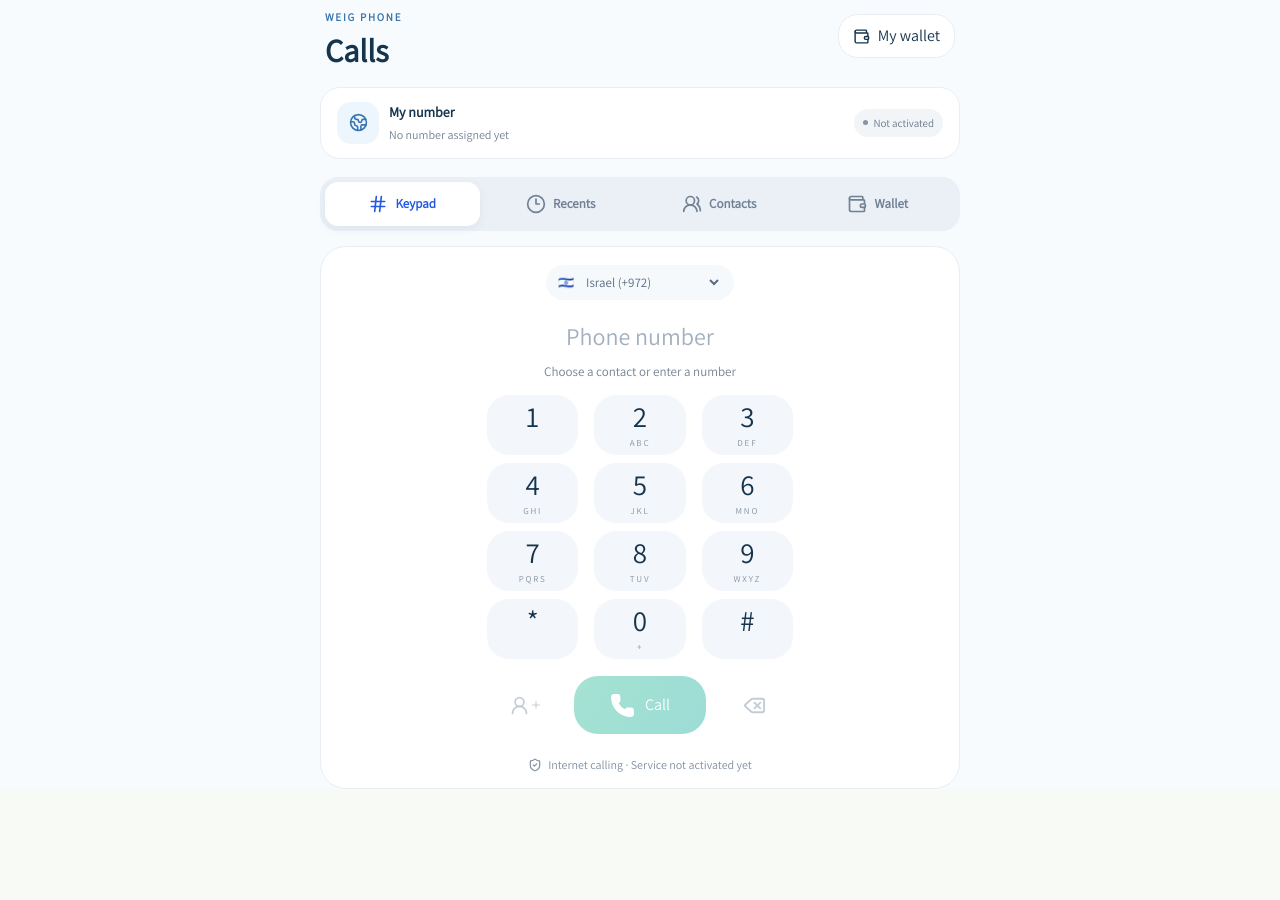
Scenario: Phone experience › persists contacts, finds them, favorites them and loads their number into the keypad
This screenshot has width=1280, height=900.
Click the tab "Contacts" at (719, 204), box [642, 182, 796, 226]
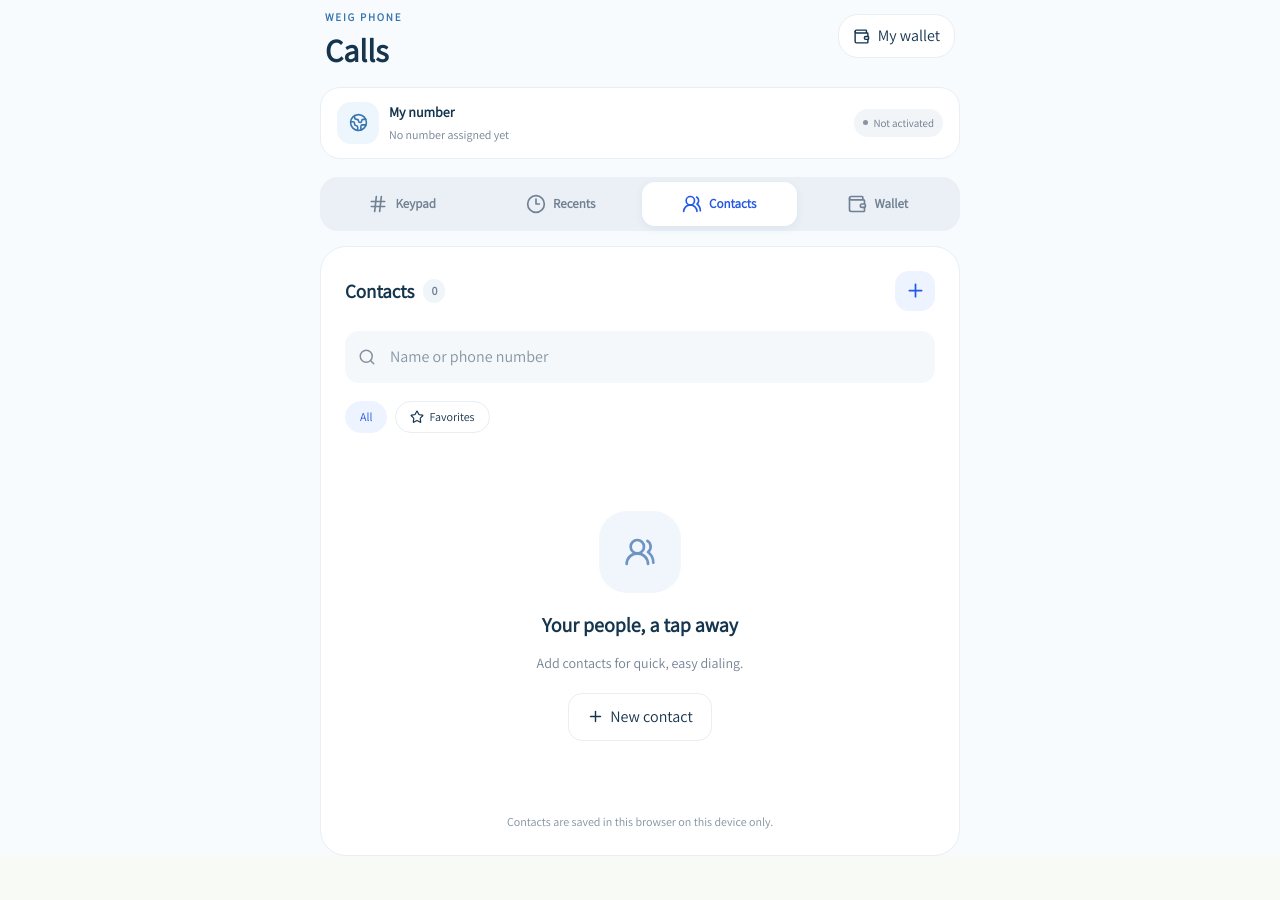
Click the button named "Add contact" at (915, 291), box [895, 271, 935, 311]
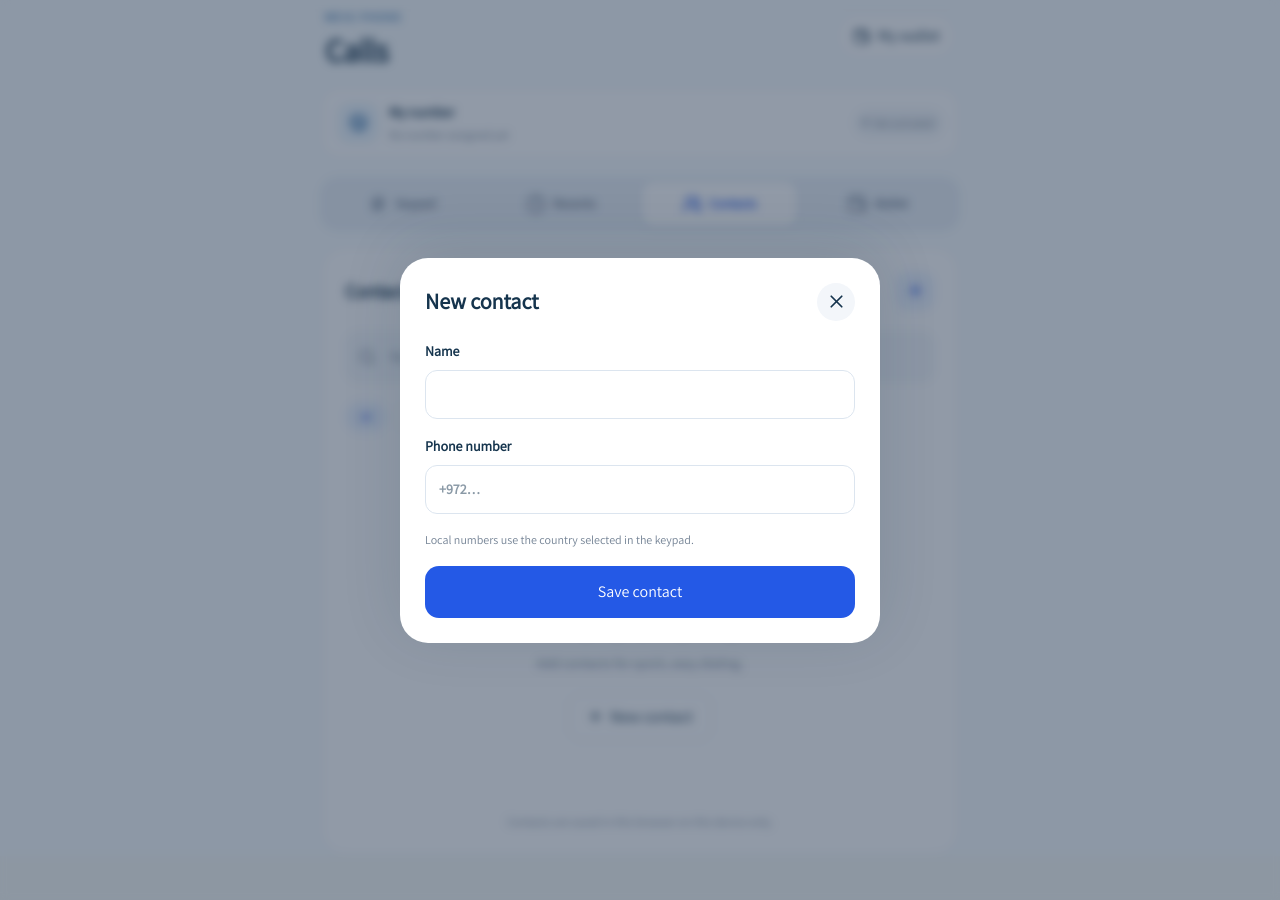
Type "Test contact" into the field labelled "Name" at (640, 394), box [425, 370, 855, 418]
Type "0501234567" into the field labelled "Phone number" at (640, 489), box [425, 464, 855, 514]
Click the button "Save contact" at (640, 592), box [425, 566, 855, 618]
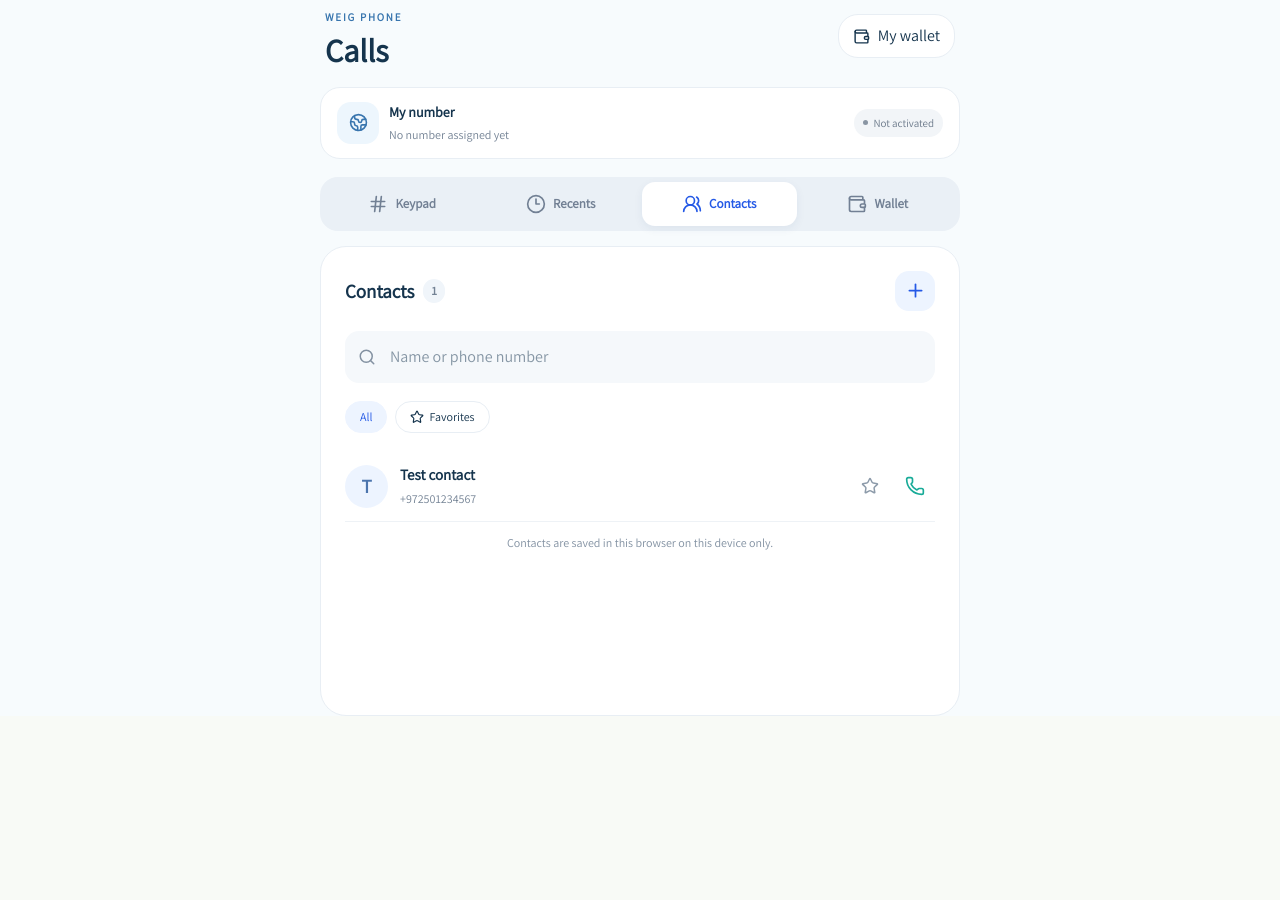
Type "test" into the field named "Search contacts" at (654, 357), box [386, 341, 922, 373]
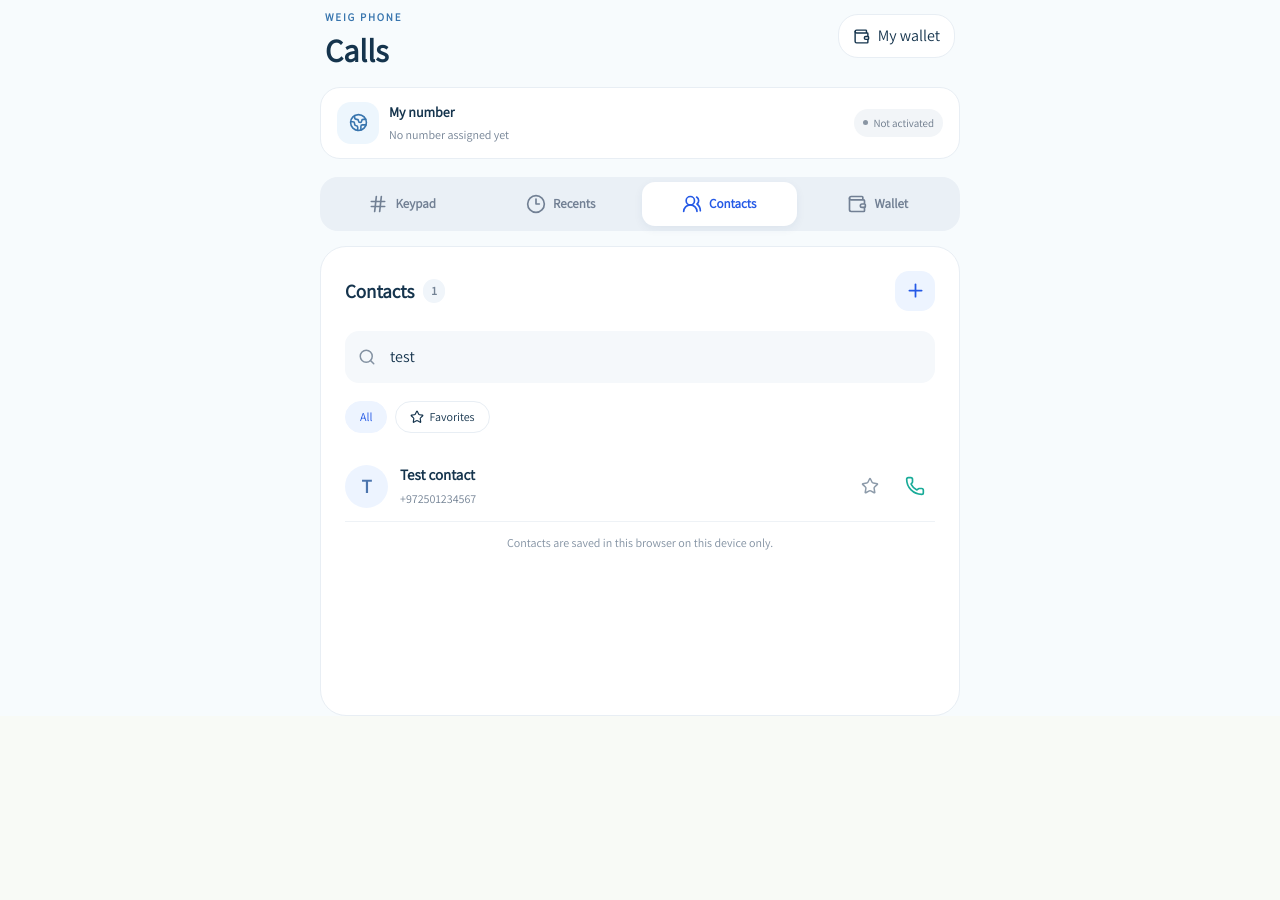
Click the button named "Favorite Test contact" at (870, 486), box [850, 464, 890, 508]
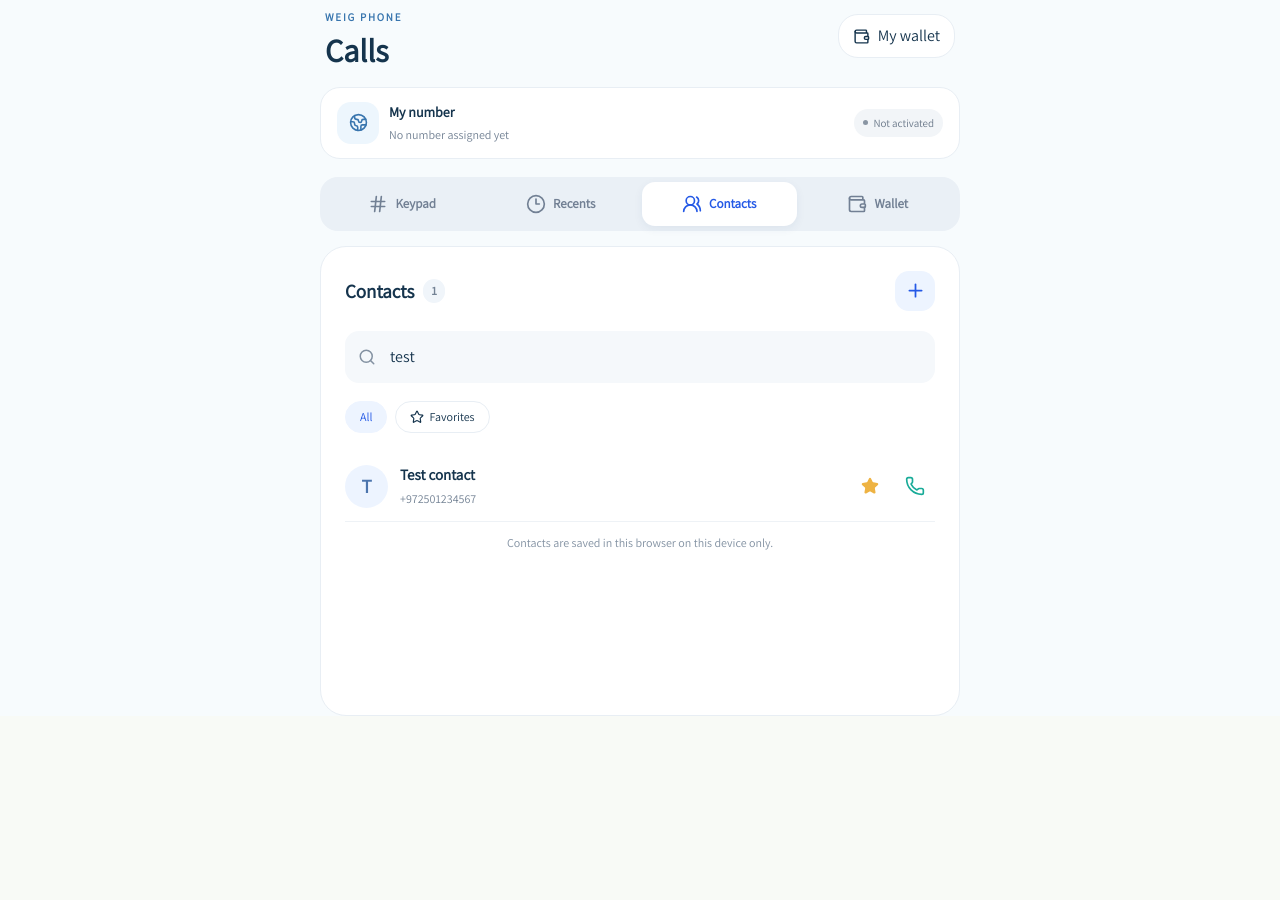
Click the button named "Dial Test contact" at (915, 486), box [895, 464, 935, 508]
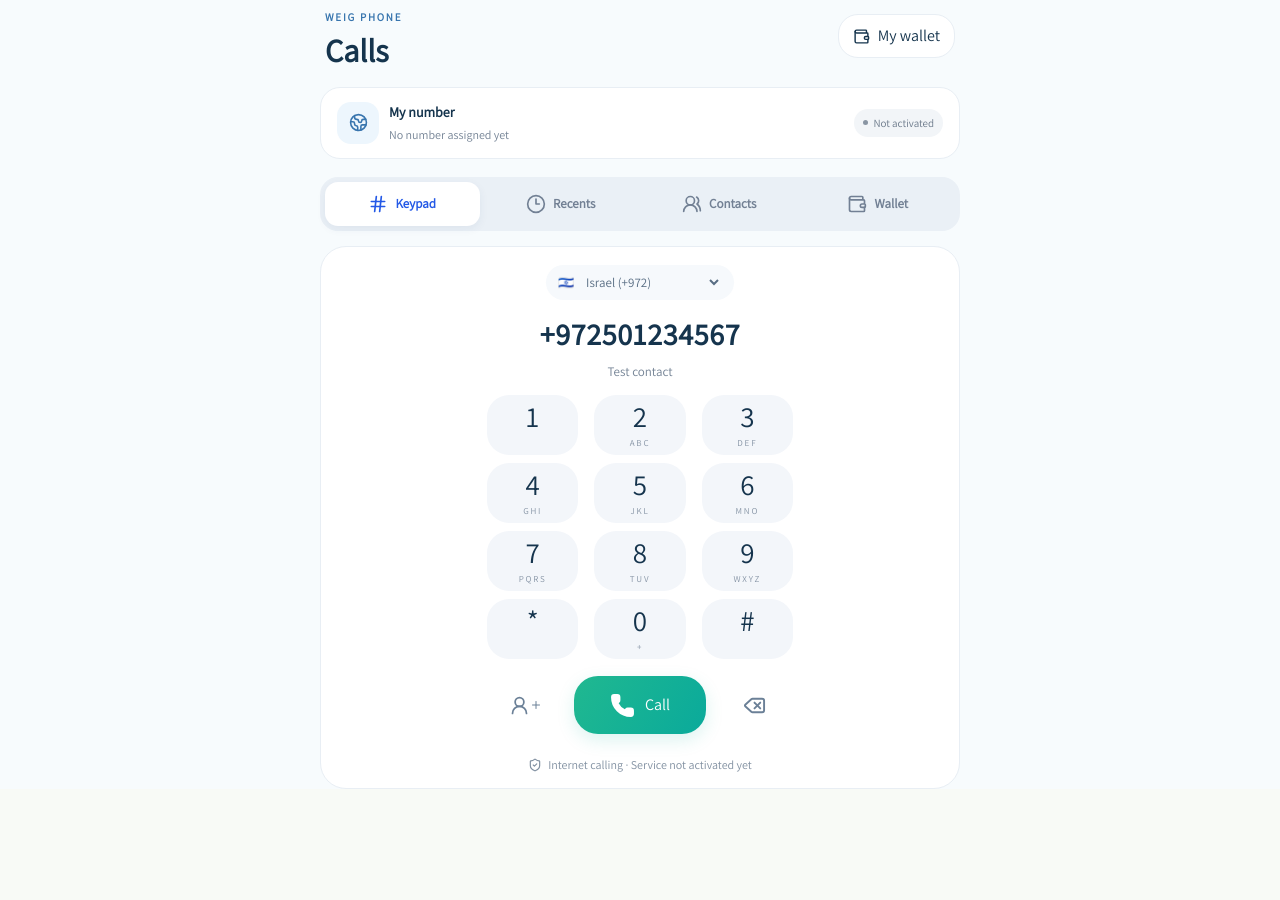
Now the field named "Phone number" holds "+972501234567", box [475, 312, 805, 357]
